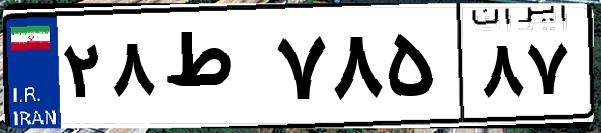2: (57, 26, 110, 100)
5: (385, 28, 445, 110)
7: (270, 28, 330, 110), (525, 38, 570, 115)
8: (330, 28, 385, 110), (475, 38, 525, 113), (110, 28, 158, 98)
ط: (158, 20, 270, 120)
